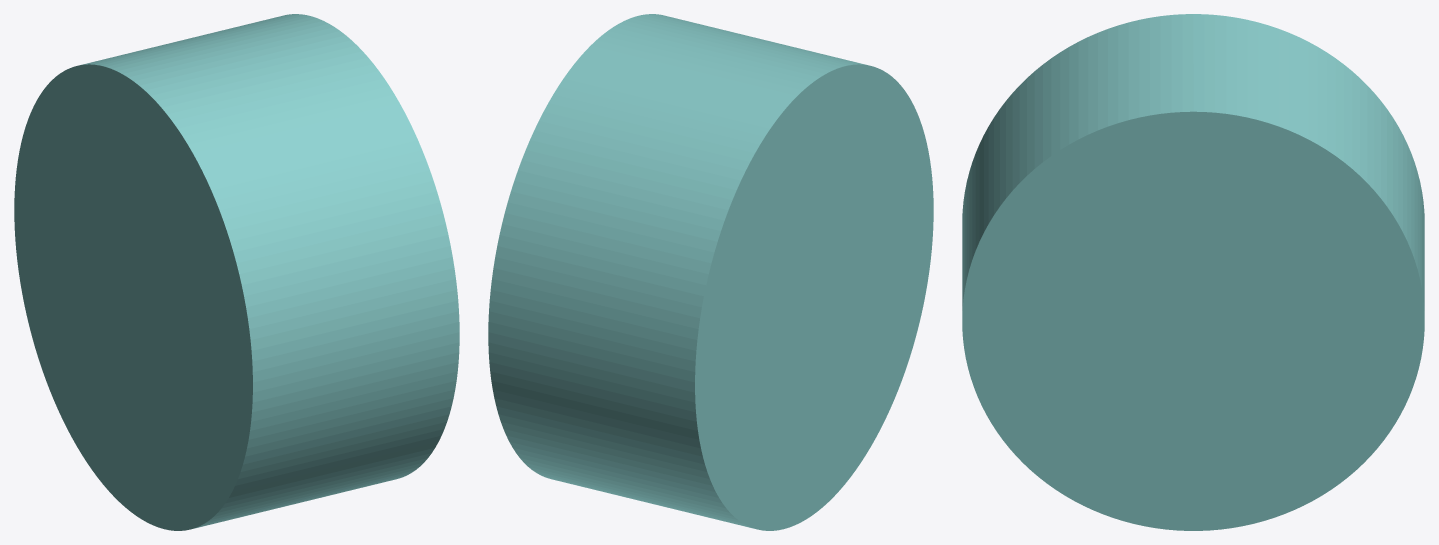
Rendered from logitech_camera_lens.dae.
3 renders of one model, left to right at view 1: azimuth 30°, elevation 25°; view 2: azimuth 150°, elevation 25°; view 3: azimuth 270°, elevation 25°, orthographic. The views are drawn at different scales.
Parts seen in each view (by area): view 1: logitech_camera_lens; view 2: logitech_camera_lens; view 3: logitech_camera_lens.
Part boxes in pixels (left/top/right/bottom): logitech_camera_lens: left=14, top=14, right=459, bottom=530; logitech_camera_lens: left=488, top=14, right=933, bottom=530; logitech_camera_lens: left=962, top=14, right=1424, bottom=530.
Bounding box in the file's own units: 10 × 20 × 20.
